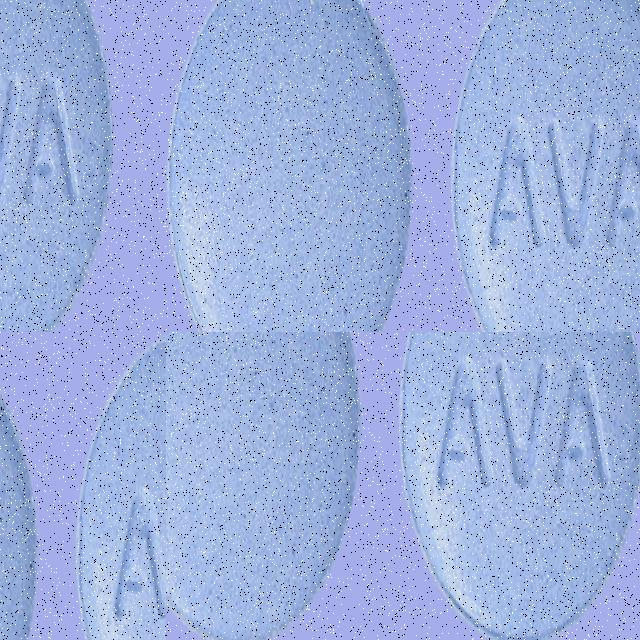Aclova 400mg: (400, 332, 640, 640), (166, 332, 364, 640)
Ciroxacin: (166, 0, 416, 332), (446, 0, 640, 332), (71, 332, 166, 640), (0, 332, 41, 640)
Clasin: (0, 0, 141, 175)
